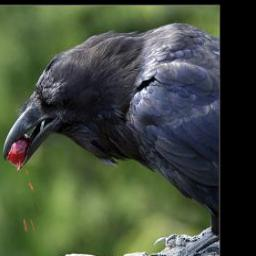Crow: (2, 21, 220, 256)
